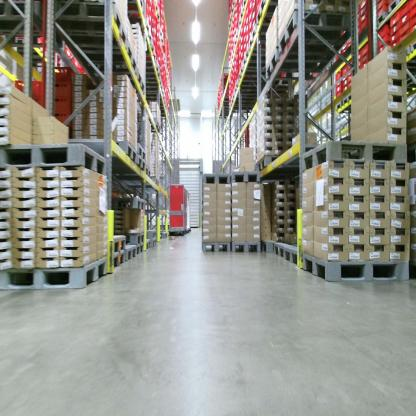pallet: (0, 138, 107, 181), (1, 250, 109, 291), (300, 247, 410, 286), (300, 136, 407, 173), (49, 3, 129, 50), (278, 11, 353, 56), (264, 43, 332, 82), (2, 28, 68, 61), (82, 45, 140, 74), (0, 3, 47, 32), (136, 114, 162, 162), (102, 137, 138, 168), (257, 152, 304, 174), (231, 231, 262, 256), (111, 155, 146, 176), (256, 1, 284, 27), (248, 25, 278, 49), (199, 234, 230, 256), (109, 192, 146, 210), (233, 79, 265, 98), (132, 17, 153, 45), (120, 73, 148, 93), (238, 60, 267, 79), (231, 169, 261, 187), (283, 242, 302, 270), (122, 175, 159, 189), (201, 171, 230, 186), (127, 2, 151, 19), (243, 47, 264, 66), (266, 78, 294, 91), (404, 141, 416, 171), (275, 237, 291, 259), (112, 249, 128, 271), (371, 11, 389, 30), (396, 42, 416, 59), (260, 233, 275, 254), (123, 231, 147, 243), (143, 45, 158, 64), (111, 234, 126, 252), (125, 242, 138, 262), (388, 1, 405, 14), (143, 226, 158, 240), (342, 88, 353, 107), (333, 99, 341, 116), (158, 230, 170, 240), (135, 244, 144, 257), (144, 237, 151, 251), (409, 40, 415, 55), (151, 237, 159, 248), (145, 166, 151, 177)
small_load_carrier: (42, 78, 72, 102), (42, 62, 74, 82), (40, 96, 73, 115), (12, 79, 42, 97)
